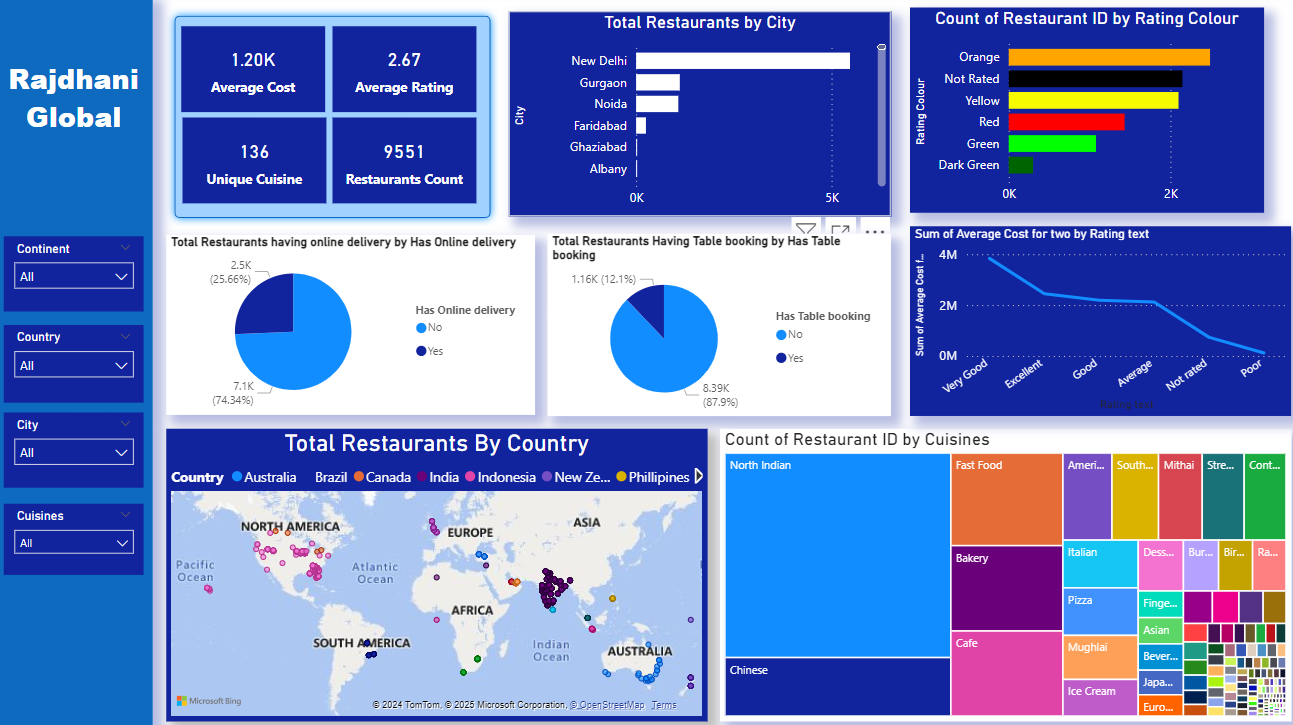

The dashboard page shown, as its layout file describes it:
{"tool":"powerbi","page":{"name":"Page 1","canvas":[1280,720],"ordinal":0},"visuals":[{"type":"shape","box":[167.5,12.2,325.3,214],"z":0},{"type":"shape","box":[0,0,154.1,720.2],"z":1000},{"type":"card","fields":{"Values":["Count(Zomato.Restaurant ID)"]},"box":[330.2,119.8,140.6,84.4],"z":2000},{"type":"card","fields":{"Values":["Avg(KPIs.Average Cost for two)"]},"box":[182.2,30.6,140.6,84.4],"z":3000},{"type":"card","fields":{"Values":["Avg(KPIs.Aggregate rating)"]},"box":[330.2,30.6,140.6,84.4],"z":4000},{"type":"card","fields":{"Values":["Zomato.Unique Cuisine"]},"box":[183.4,119.8,140.6,84.4],"z":5000},{"type":"map","title":"Total Restaurants By Country","fields":{"Y":["Zomato.Latitude"],"X":["Zomato.Longitude"],"Series":["Country Master.Country"]},"box":[167.5,424.3,529.5,286.1],"z":6000},{"type":"slicer","fields":{"Values":["Zomato.City"]},"box":[8.6,408.4,137,73.4],"z":7000},{"type":"slicer","fields":{"Values":["Country Master.Continent"]},"box":[8.6,236,137,73.4],"z":8000},{"type":"slicer","fields":{"Values":["Country Master.Country"]},"box":[8.6,322.8,137,75.8],"z":9000},{"type":"slicer","fields":{"Values":["Zomato.Cuisines"]},"box":[8.6,497.7,137,69.7],"z":10000},{"type":"clusteredBarChart","title":"Total Restaurants by City","fields":{"Category":["Zomato.City"],"Y":["CountNonNull(Zomato.Restaurant ID Cleaned)"]},"box":[502.6,15.9,374.2,200.5],"z":11000},{"type":"clusteredBarChart","fields":{"Category":["KPIs.Rating Colour"],"Y":["CountNonNull(KPIs.Restaurant ID)"]},"box":[895.1,12.2,346.1,200.5],"z":12000},{"type":"pieChart","fields":{"Category":["KPIs.Has Online delivery"],"Y":["CountNonNull(KPIs.Has Online delivery)"]},"box":[167.5,234.8,360.7,176.1],"z":13000},{"type":"pieChart","fields":{"Category":["KPIs.Has Table booking"],"Y":["CountNonNull(KPIs.Has Table booking)"]},"box":[540.5,233.6,336.3,178.5],"z":14000},{"type":"treemap","fields":{"Group":["Zomato.Cuisines"],"Values":["CountNonNull(KPIs.Restaurant ID)"]},"box":[709.2,424.3,558.8,286.1],"z":15000},{"type":"lineChart","fields":{"Y":["Sum(KPIs.Average Cost for two)"],"Category":["KPIs.Rating text"]},"box":[895.1,226.2,373,185.9],"z":16000},{"type":"textbox","box":[0,57.5,154.1,94.2],"z":16001}]}

Visuals, with their boxes in screenshot pixels (x1, y1, x2, y2), scaled from the page's 1280x720 canvas onto the 1293x725 screenshot:
shape: Rect(169, 12, 498, 228)
shape: Rect(0, 0, 156, 724)
card - Count(Zomato.Restaurant ID): Rect(334, 121, 476, 206)
card - Avg(KPIs.Average Cost for two): Rect(184, 31, 326, 116)
card - Avg(KPIs.Aggregate rating): Rect(334, 31, 476, 116)
card - Zomato.Unique Cuisine: Rect(185, 121, 327, 206)
"Total Restaurants By Country" map: Rect(169, 427, 704, 715)
slicer - Zomato.City: Rect(9, 411, 147, 485)
slicer - Country Master.Continent: Rect(9, 238, 147, 312)
slicer - Country Master.Country: Rect(9, 325, 147, 401)
slicer - Zomato.Cuisines: Rect(9, 501, 147, 571)
"Total Restaurants by City" clusteredBarChart: Rect(508, 16, 886, 218)
clusteredBarChart - KPIs.Rating Colour x CountNonNull(KPIs.Restaurant ID): Rect(904, 12, 1254, 214)
pieChart - KPIs.Has Online delivery x CountNonNull(KPIs.Has Online delivery): Rect(169, 236, 534, 414)
pieChart - KPIs.Has Table booking x CountNonNull(KPIs.Has Table booking): Rect(546, 235, 886, 415)
treemap - Zomato.Cuisines x CountNonNull(KPIs.Restaurant ID): Rect(716, 427, 1281, 715)
lineChart - Sum(KPIs.Average Cost for two) x KPIs.Rating text: Rect(904, 228, 1281, 415)
textbox: Rect(0, 58, 156, 153)
